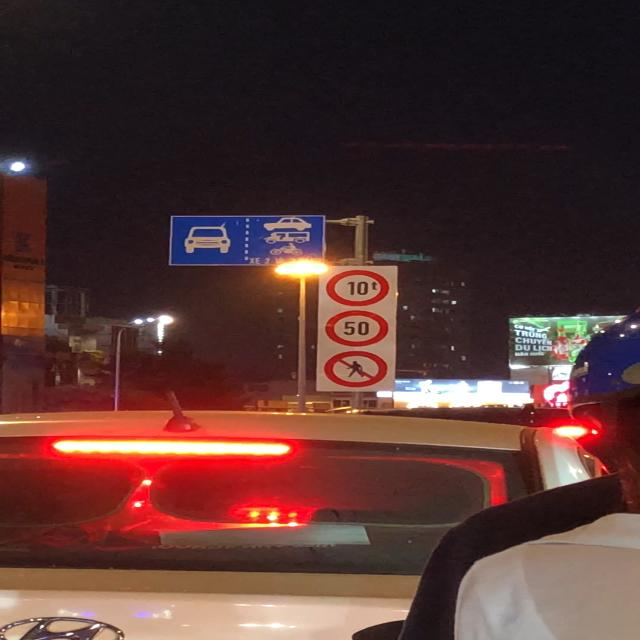Bien bao cam nguoi di bo: (321, 350, 390, 388)
Bien bao toc do toi da cho phep: (325, 308, 390, 349)
